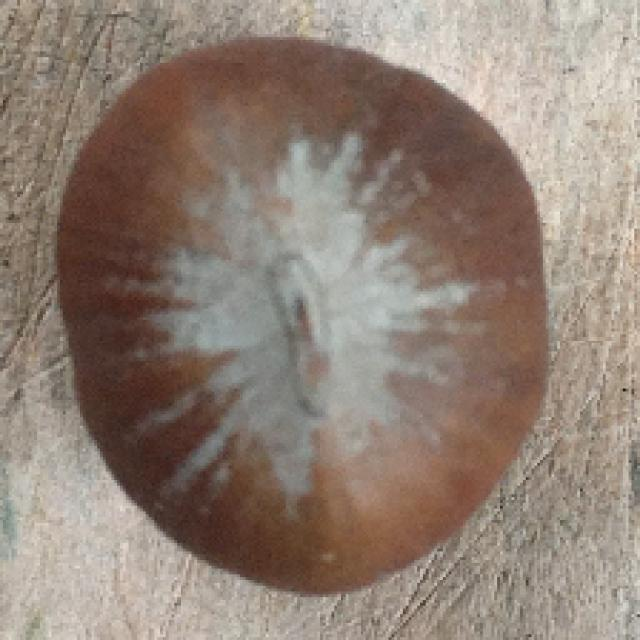damagedHazelnut: (49, 35, 556, 596)
